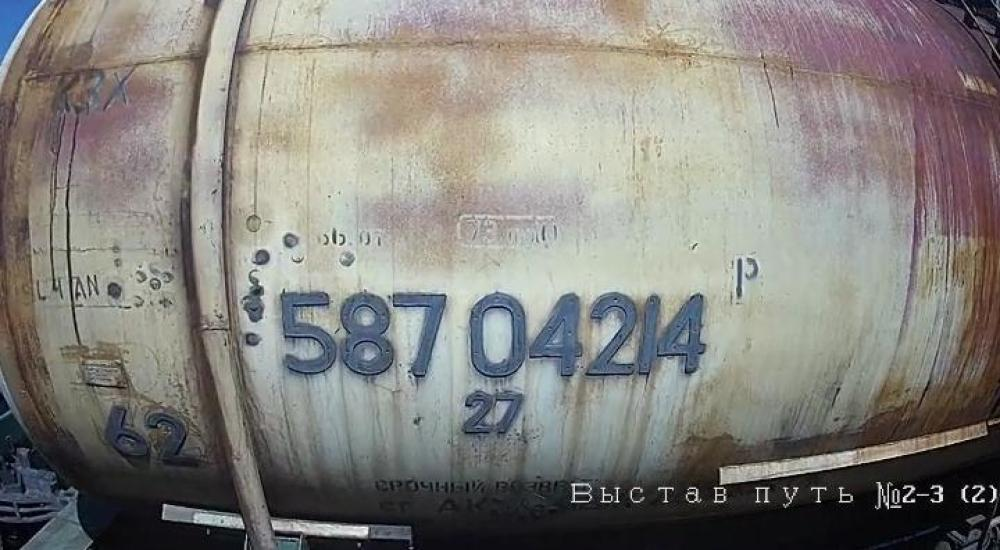Wagon-number: (277, 284, 711, 380)
